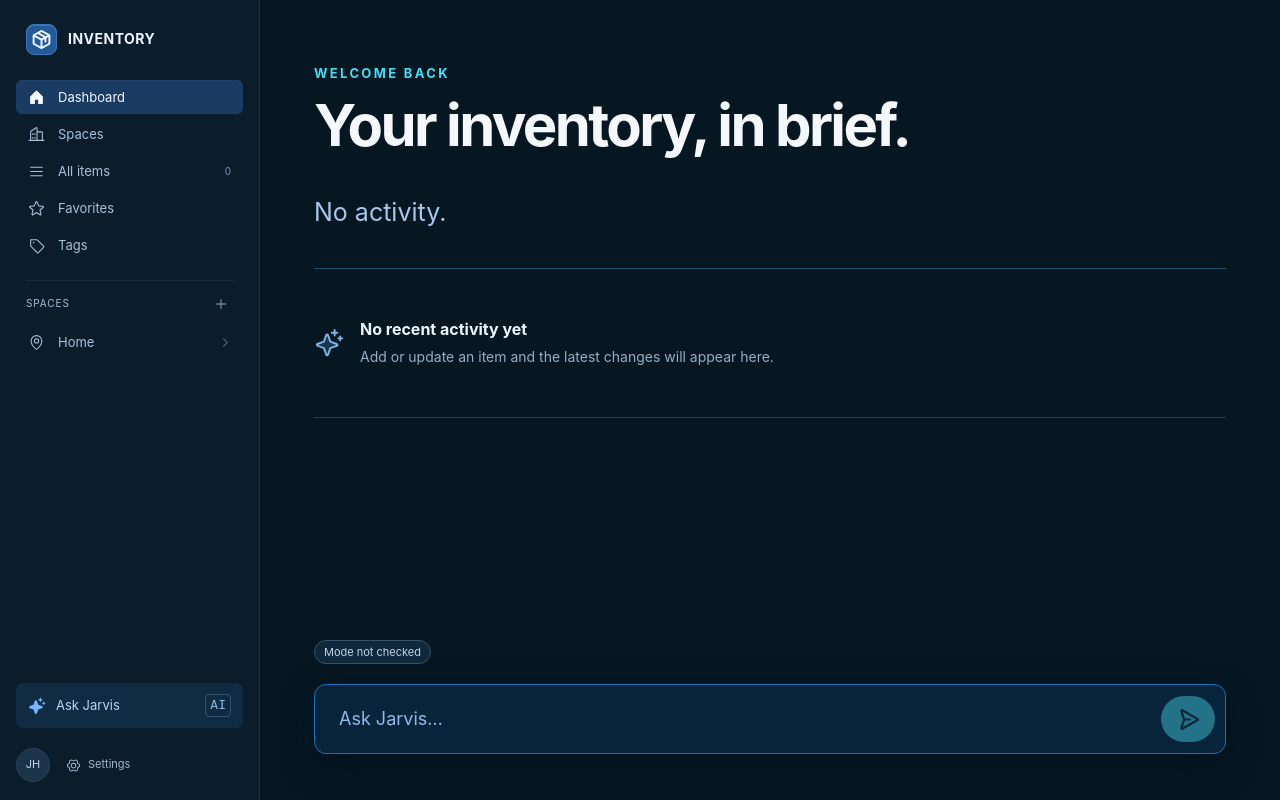
Test: global Add item requires a destination and keeps the invalid draft without a write
Click the button "All items 0": (130, 171) [16, 154, 243, 188]
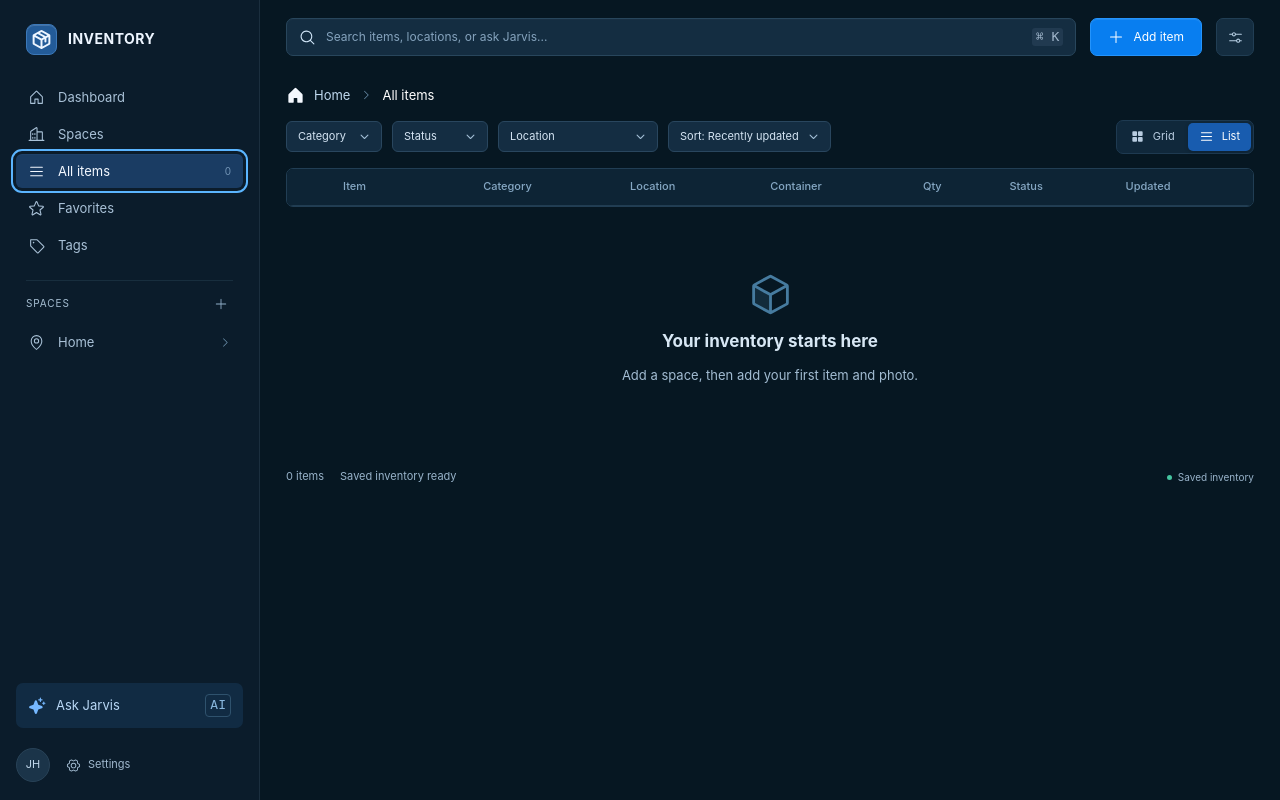
Click the button "Add item": (1146, 37) [1090, 18, 1202, 56]
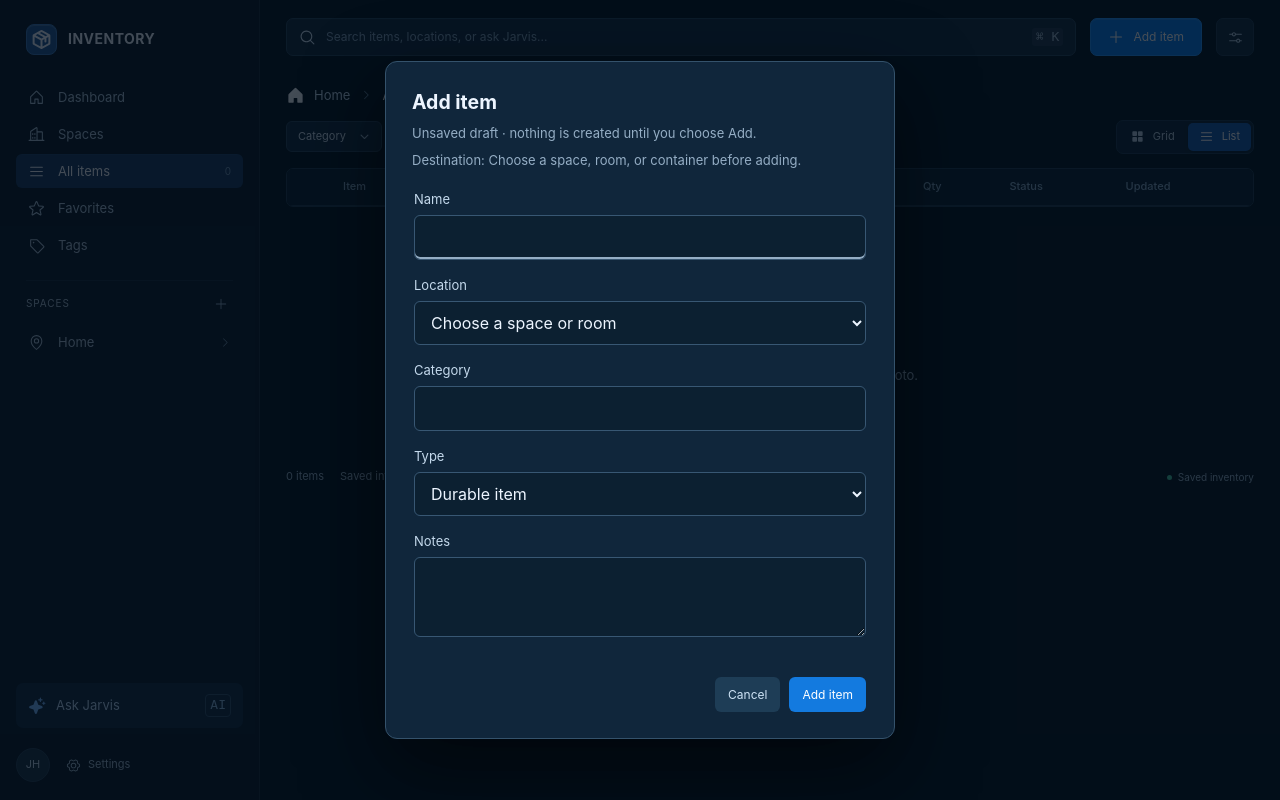
Expected: the text "Choose a space, room, or container before adding" is shown, [488, 152, 801, 168]
In the field labelled "Name": (640, 237) [414, 215, 866, 260], type "Camera"
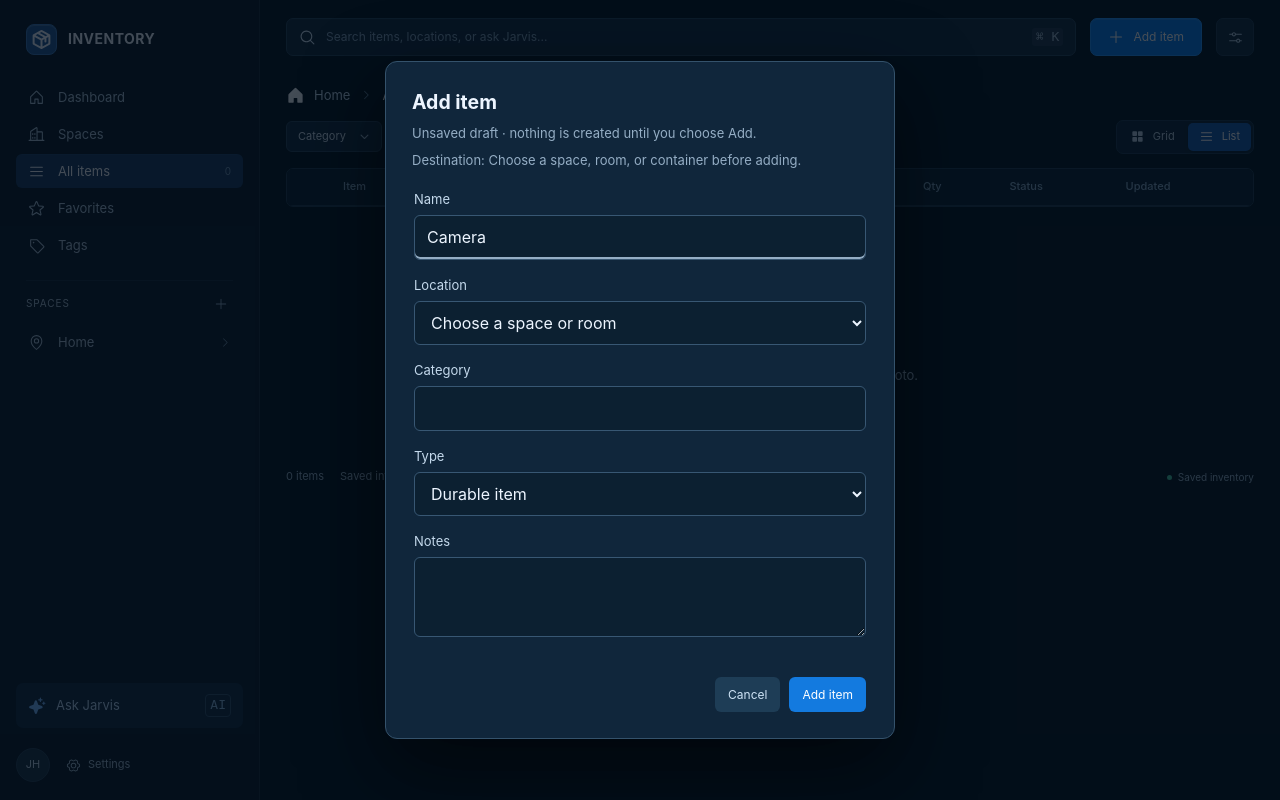
Click the button "Add item": (828, 694) [789, 677, 866, 712]
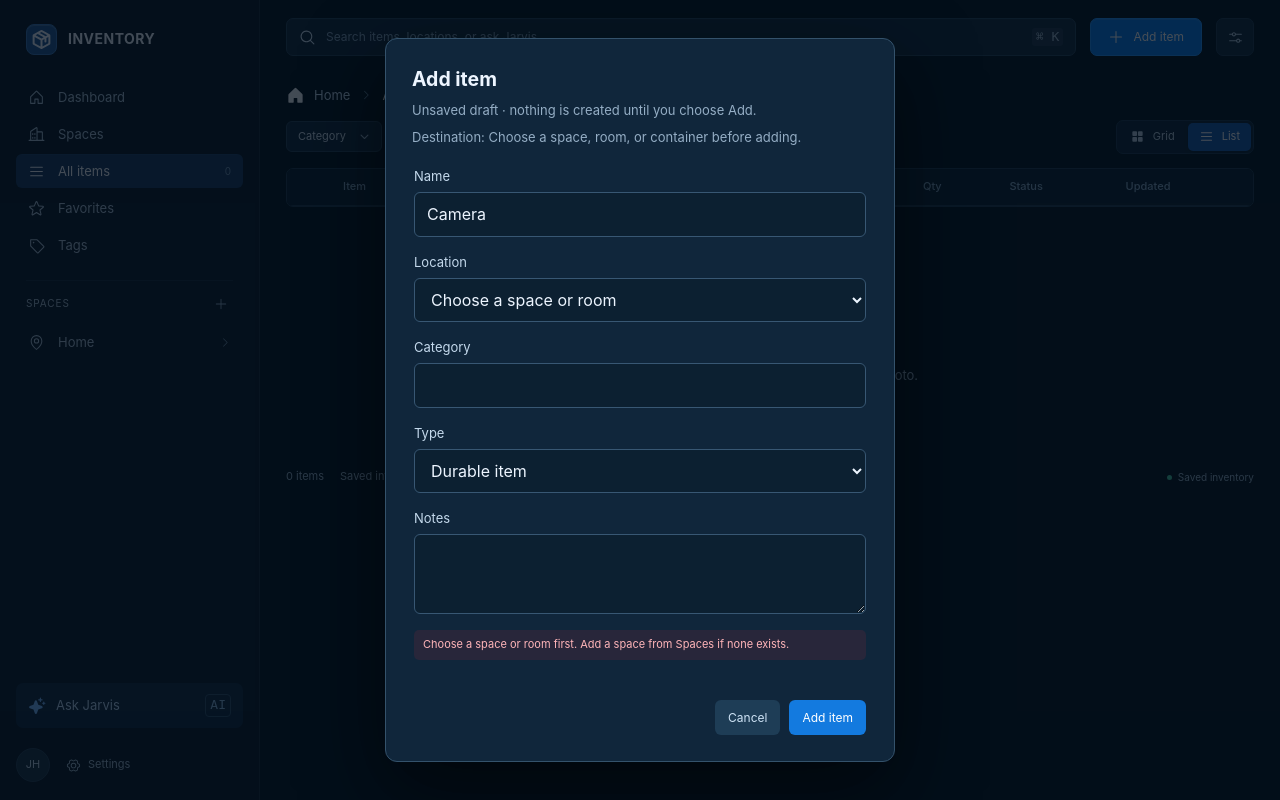
Expected: the message shows "Choose", [423, 637, 789, 651]
